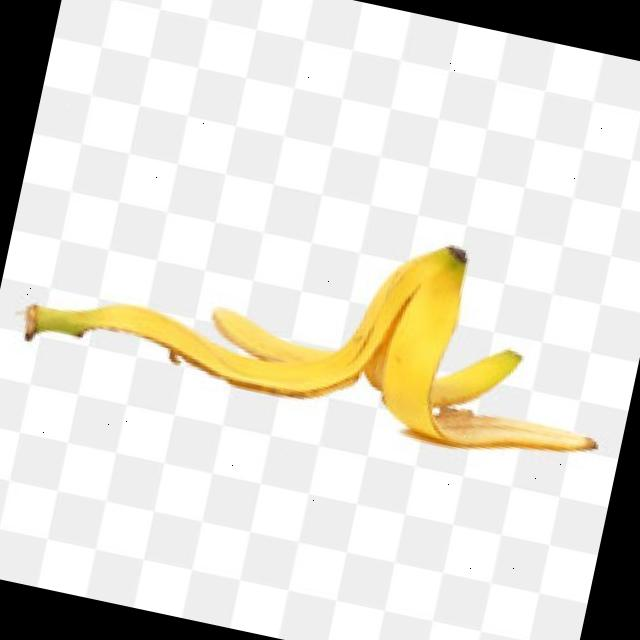banana-peel: (12, 158, 632, 475)
